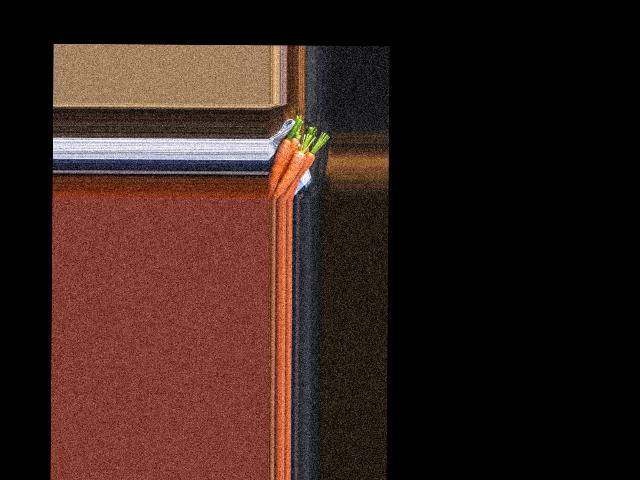carrot: (267, 130, 291, 199)
